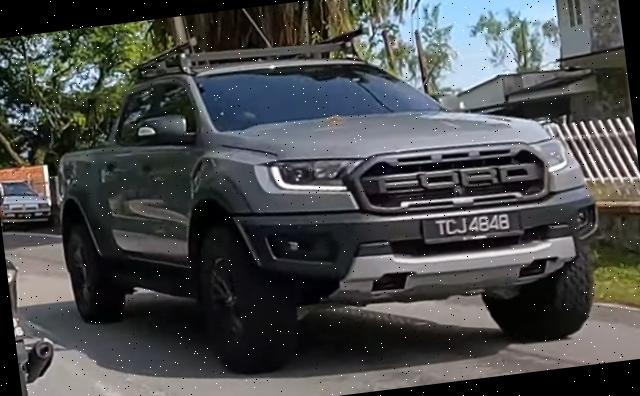License_Plate: (419, 205, 524, 248)
car: (37, 1, 613, 396)
